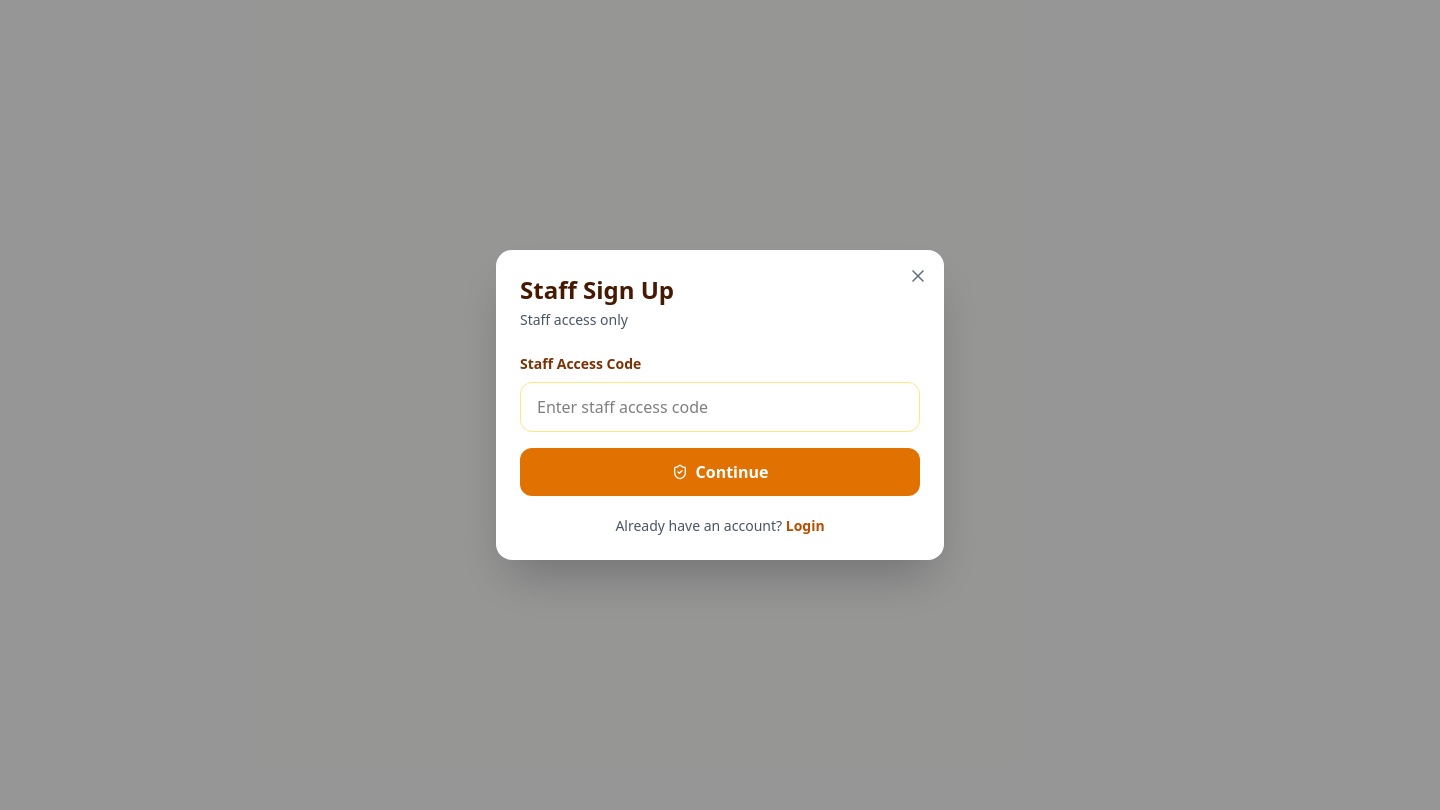
it: SignupModal › reveals the sign-up form after the correct access code
This screenshot has width=1440, height=810.
Type "letmein" into the password field with placeholder "Enter staff access code" at (720, 407), box [520,382,920,432]
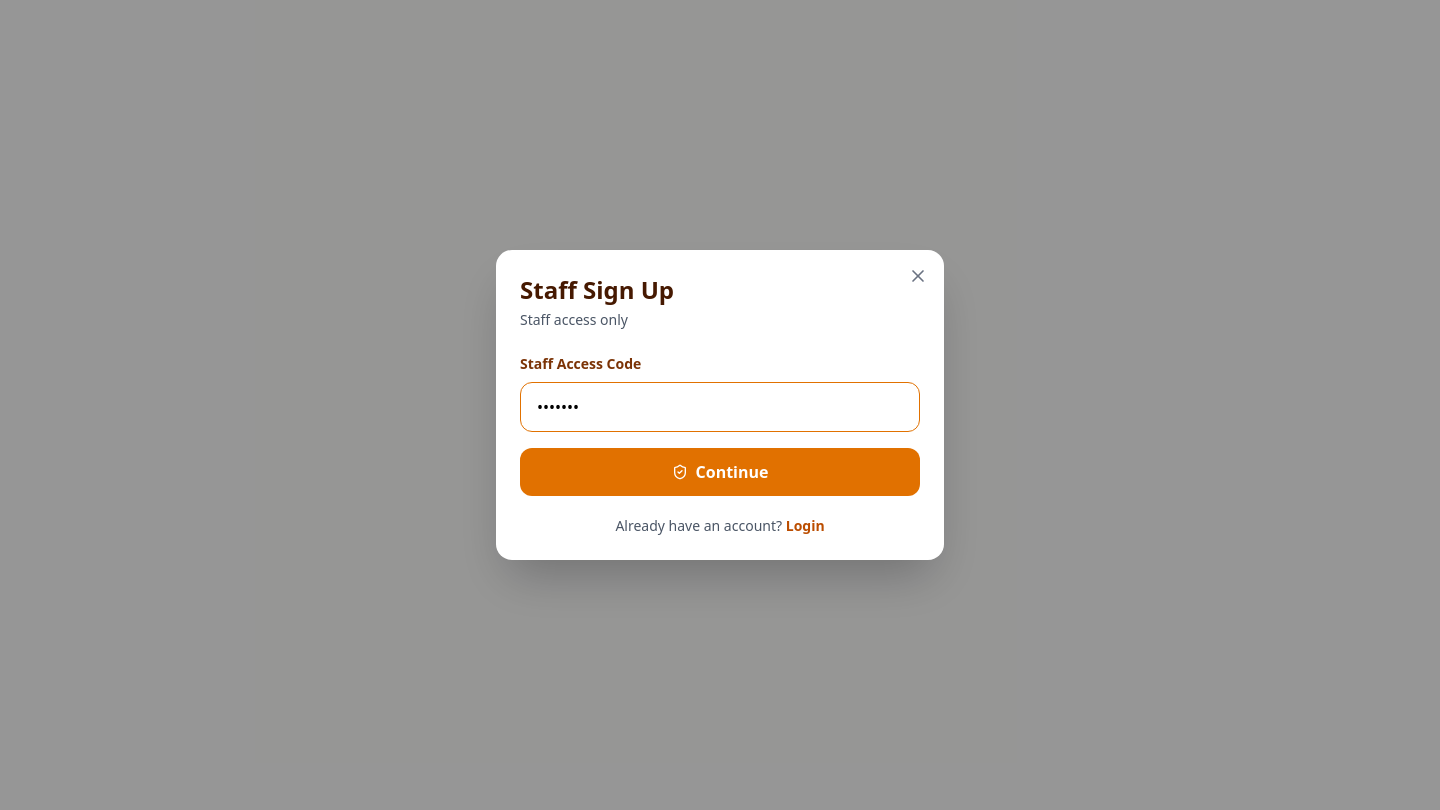
Click the button "Continue" at (720, 472), box [520,448,920,496]
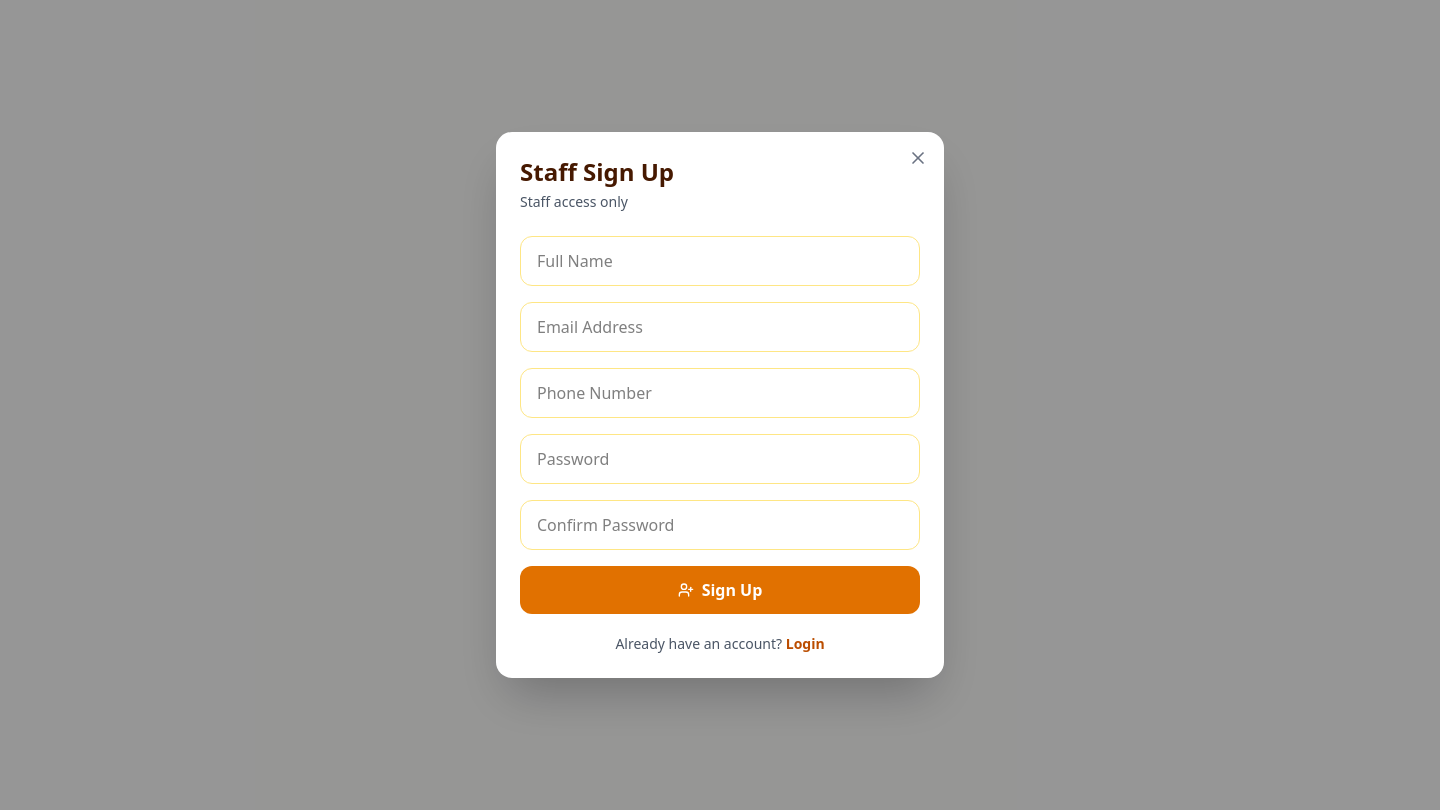
Check: the field with placeholder "Full Name" is shown, box [520,236,920,286]
